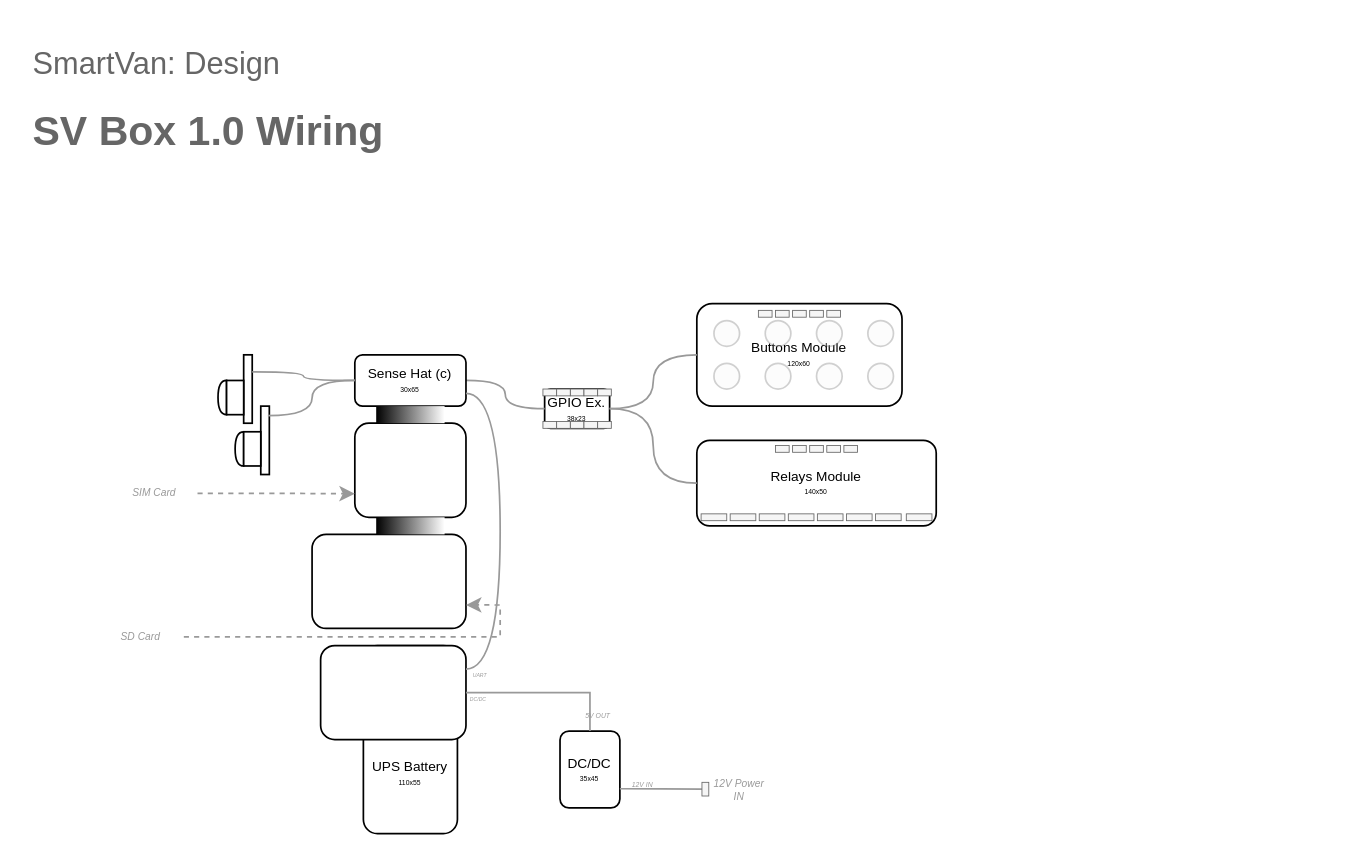
This 1358x864 diagram has some shape labels left out. Here are the shapes that lost their labels. From the top down, the centre of each, then its label:
At (409,469): "SIM7600E-H 55x65".
At (388,580): "Raspberry Pi 55x90".
At (392,692): "UPS Pack 50x85".
